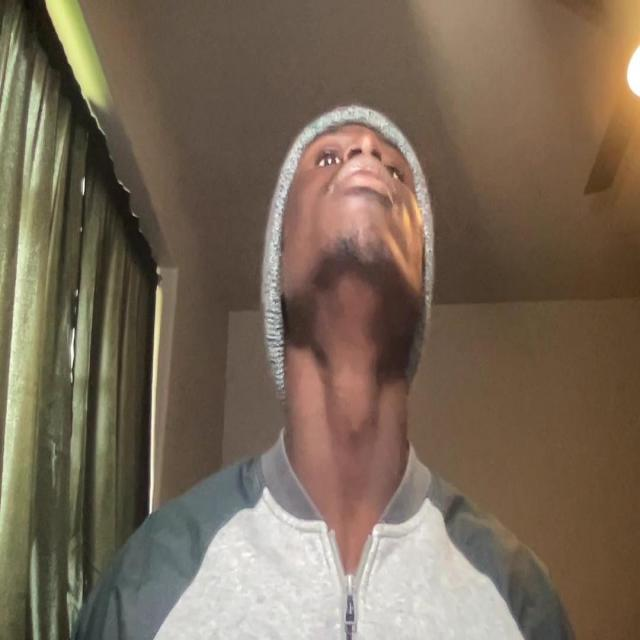face: (264, 100, 431, 335)
